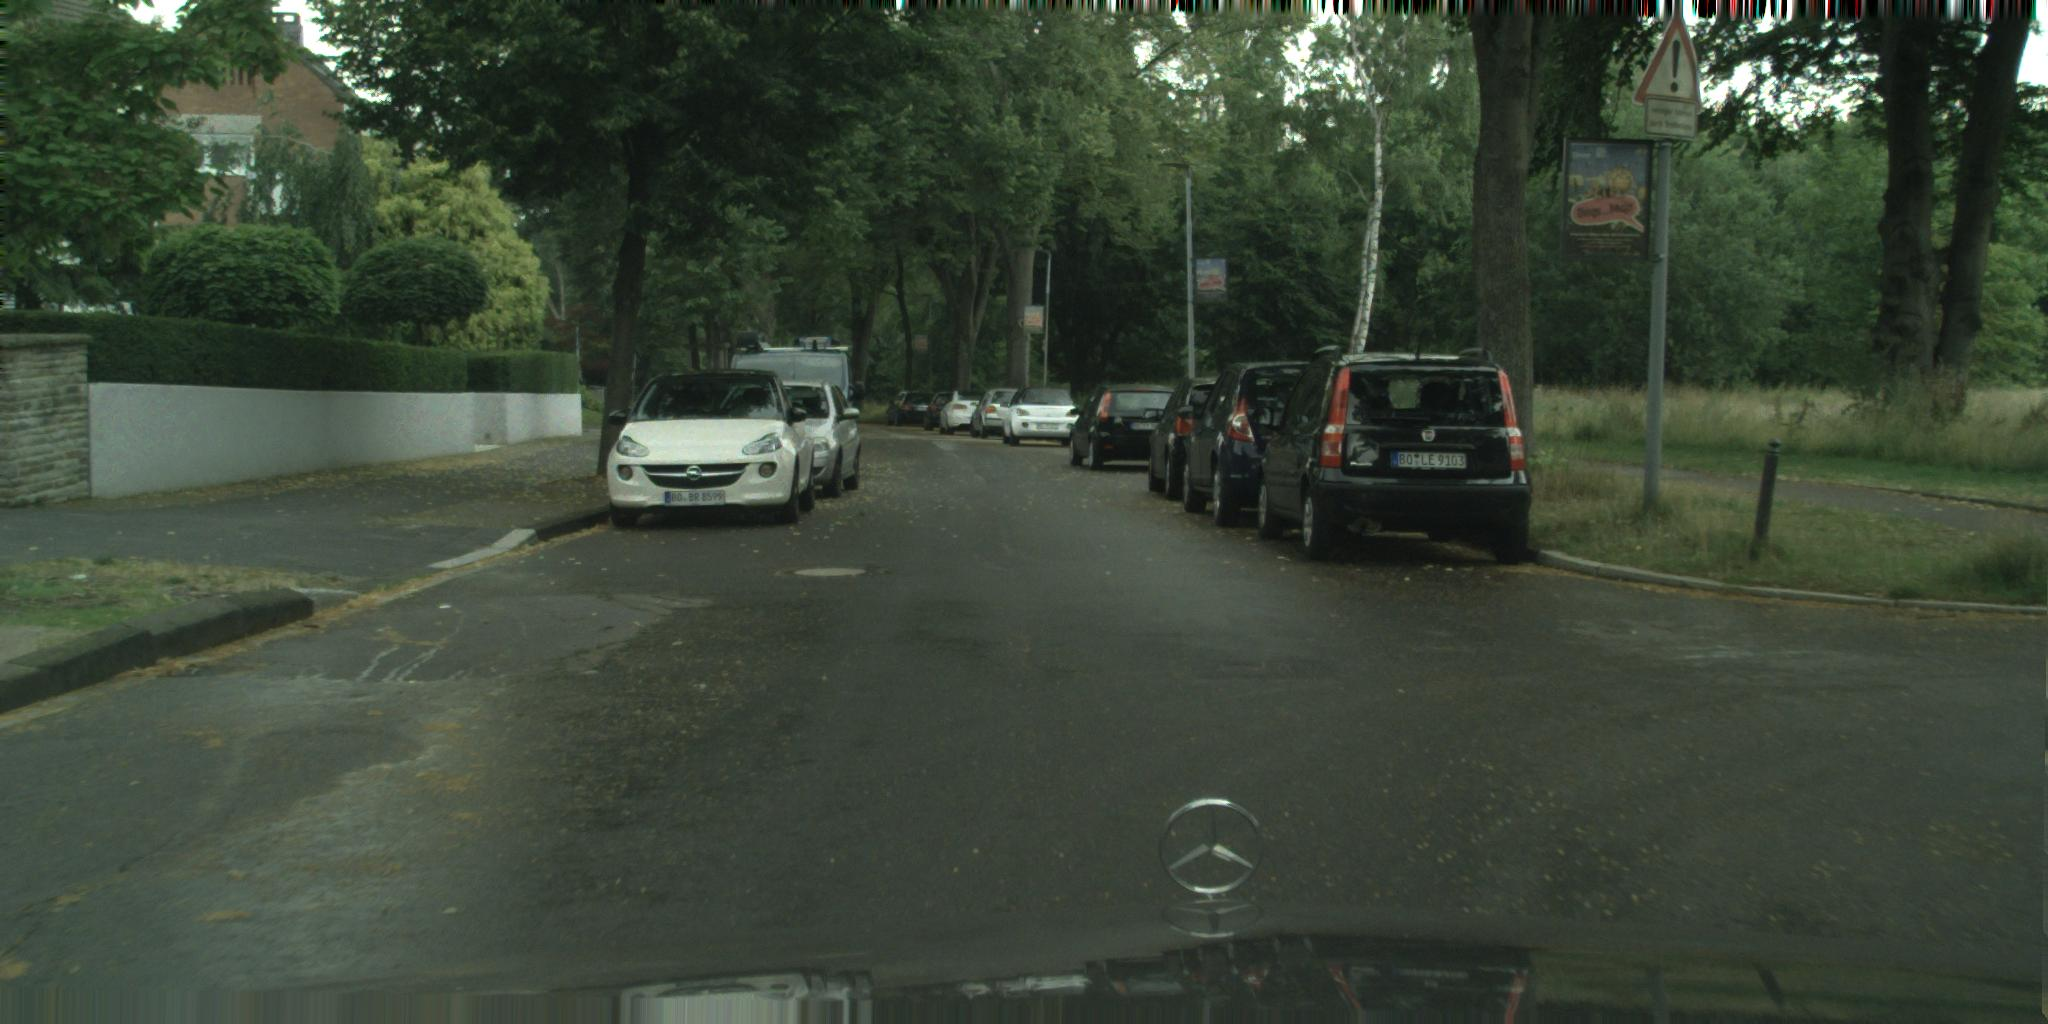car: (1254, 346, 1533, 564), (609, 370, 818, 528), (1174, 363, 1343, 526), (737, 380, 863, 499), (729, 330, 866, 427), (1144, 377, 1236, 498), (1071, 384, 1194, 472), (1000, 388, 1087, 447), (970, 389, 1038, 440), (940, 391, 998, 436), (886, 391, 950, 427), (925, 392, 967, 431)
